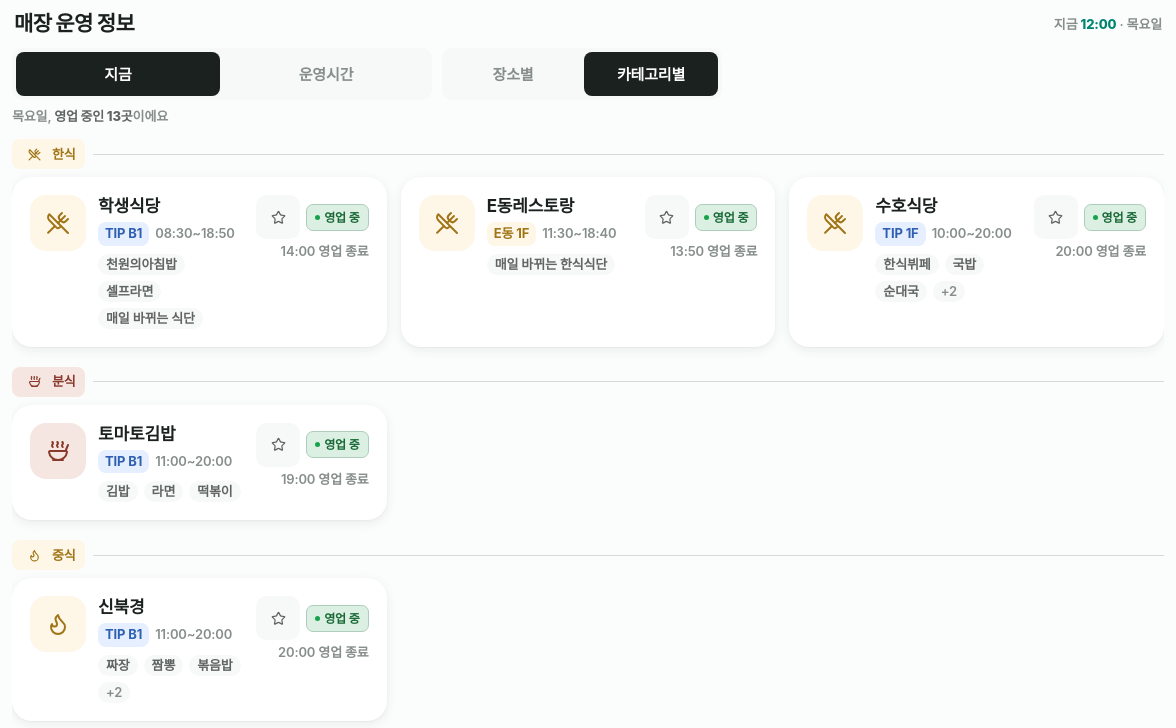
CafeteriaVenues — 카드 해부 통일 › 대표메뉴가 3개를 넘으면 "+N" 칩으로 나머지를 묶는다 (수호식당 5개 메뉴)
Click the tab "운영시간": x=326, y=74 [224, 52, 428, 96]
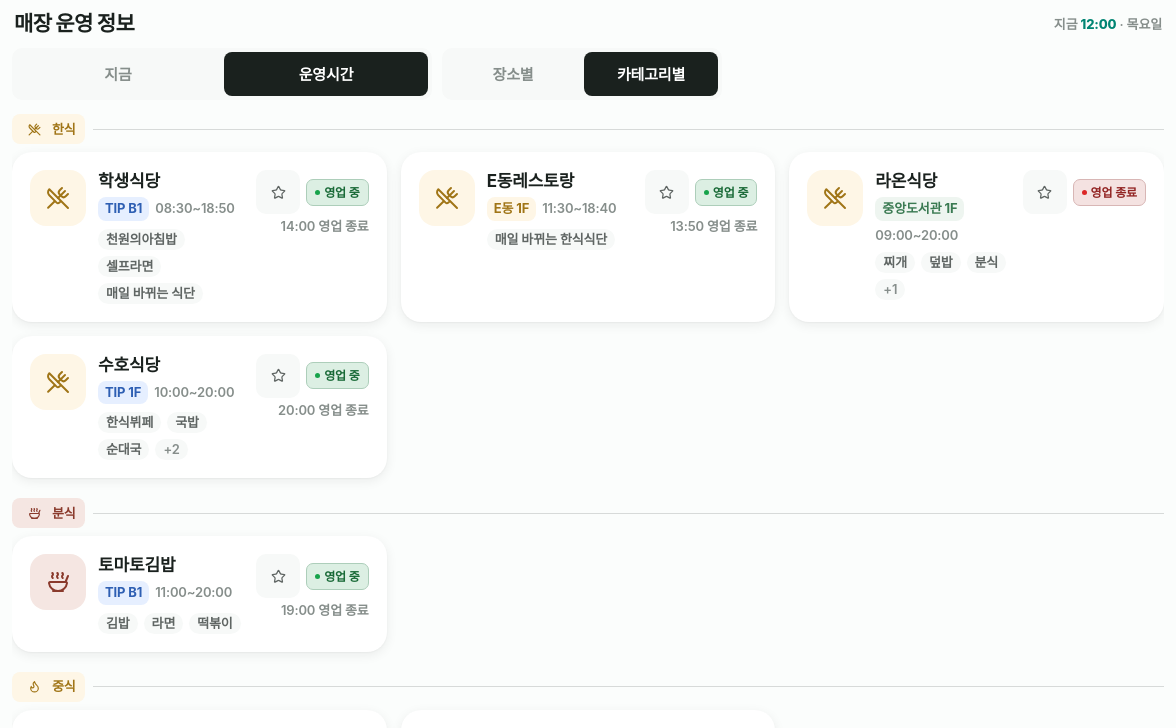
Expected: the text "한식뷔페" is shown, [98, 412, 161, 433]
Expected: the text "국밥" is shown, [167, 412, 207, 433]
Expected: the text "순대국" is shown, [98, 439, 149, 460]
